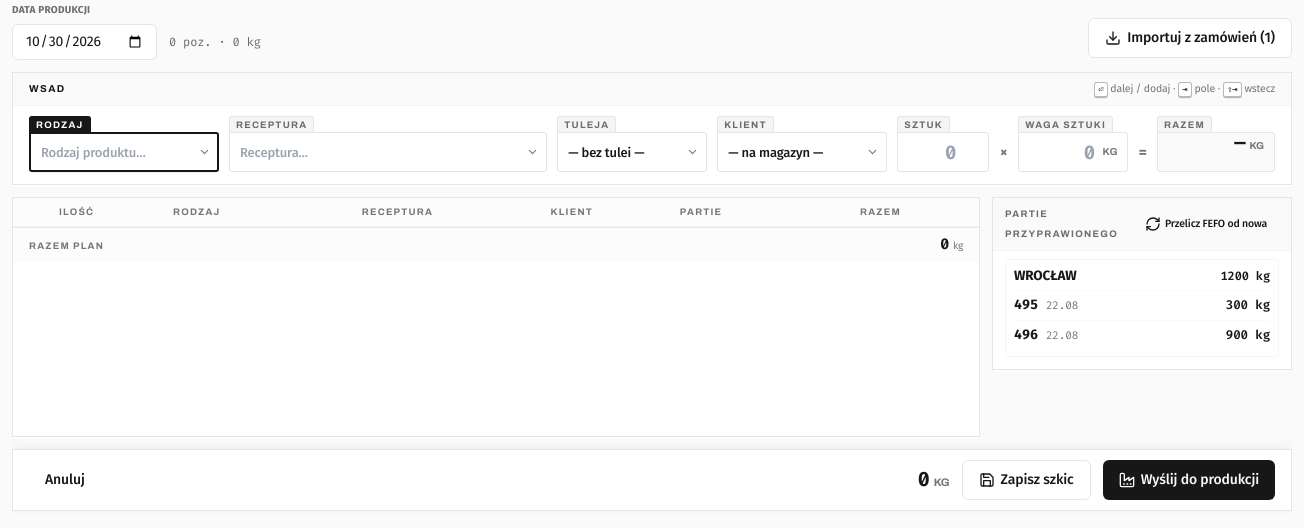
it: PlanEditor — wciąganie z zamówień › pokazuje RESZTĘ do wyprodukowania, nie ilość z zamówienia
Click the button with test id "otworz-zamowienia". click: (1190, 38)
box: [1088, 18, 1292, 58]
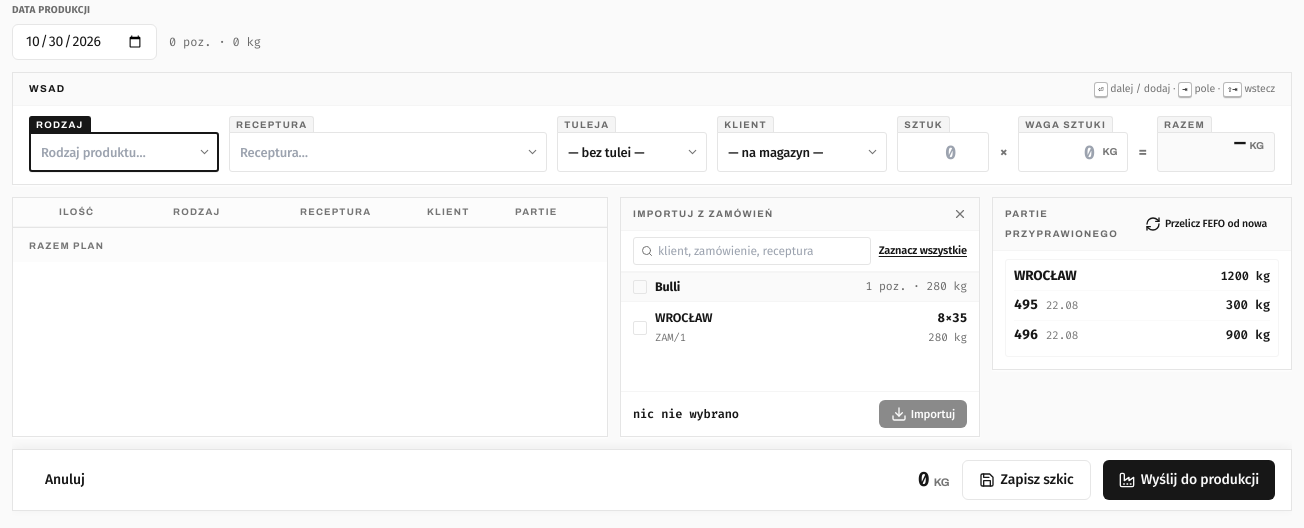
Result: the button with test id "pozycja-zl1" shows "8×35" at [621, 302, 979, 354]
